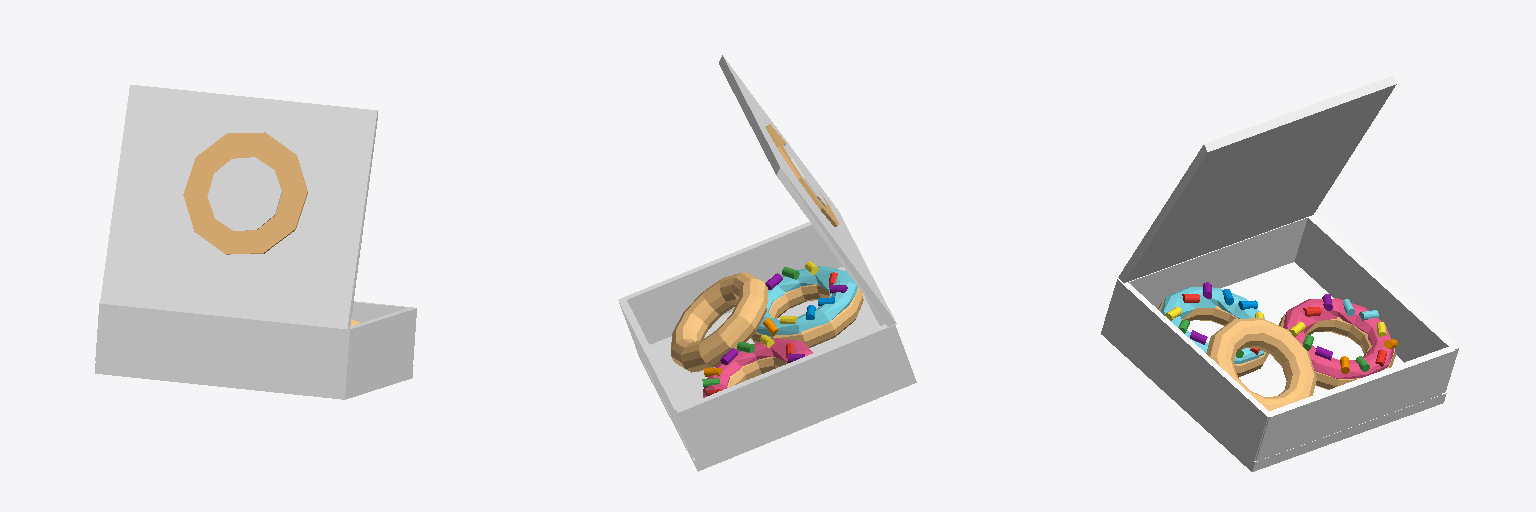
3 renders of one model, left to right at view 1: azimuth 30°, elevation 25°; view 2: azimuth 150°, elevation 25°; view 3: azimuth 270°, elevation 25°, orthographic.
Parts seen in each view (by area): view 1: group[number redacted], group[number redacted], group[number redacted], group[number redacted], group[number redacted], group[number redacted], group[number redacted]; view 2: group[number redacted], group[number redacted], group[number redacted], group[number redacted], group[number redacted], group[number redacted], group[number redacted], group[number redacted], group[number redacted], group[number redacted]; view 3: group[number redacted], group[number redacted], group[number redacted], group[number redacted], group[number redacted], group[number redacted], group[number redacted], group[number redacted], group[number redacted].
Boxes of the visible parts, x1=… form: group[number redacted]: x1=100, y1=85, x2=377, y2=329; group[number redacted]: x1=95, y1=303, x2=342, y2=385; group[number redacted]: x1=183, y1=132, x2=307, y2=254; group[number redacted]: x1=339, y1=307, x2=416, y2=386; group[number redacted]: x1=207, y1=157, x2=281, y2=230; group[number redacted]: x1=95, y1=361, x2=413, y2=399; group[number redacted]: x1=351, y1=301, x2=413, y2=322; group[number redacted]: x1=676, y1=324, x2=904, y2=459; group[number redacted]: x1=619, y1=222, x2=842, y2=344; group[number redacted]: x1=751, y1=261, x2=863, y2=347; group[number redacted]: x1=671, y1=272, x2=767, y2=372; group[number redacted]: x1=635, y1=267, x2=916, y2=471; group[number redacted]: x1=719, y1=55, x2=896, y2=326; group[number redacted]: x1=702, y1=335, x2=812, y2=397; group[number redacted]: x1=618, y1=300, x2=693, y2=457; group[number redacted]: x1=766, y1=124, x2=838, y2=226; group[number redacted]: x1=864, y1=295, x2=912, y2=374; group[number redacted]: x1=1118, y1=75, x2=1396, y2=282; group[number redacted]: x1=1104, y1=279, x2=1272, y2=460; group[number redacted]: x1=1101, y1=262, x2=1446, y2=471; group[number redacted]: x1=1255, y1=346, x2=1454, y2=461; group[number redacted]: x1=1294, y1=215, x2=1458, y2=392; group[number redacted]: x1=1279, y1=294, x2=1397, y2=389; group[number redacted]: x1=1126, y1=215, x2=1313, y2=308; group[number redacted]: x1=1206, y1=318, x2=1316, y2=410; group[number redacted]: x1=1158, y1=282, x2=1268, y2=377.
Bounding box in the file's own units: 0.5578 × 0.5256 × 0.5584.